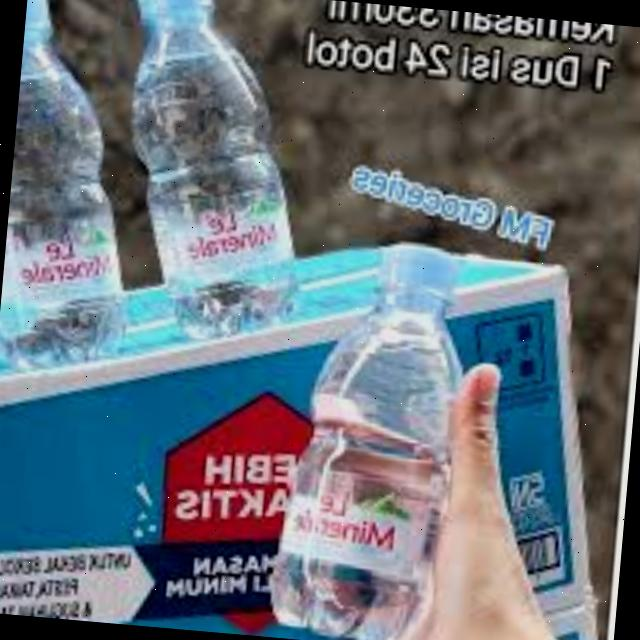trash: (263, 232, 482, 640), (96, 0, 322, 351), (0, 0, 152, 381)
